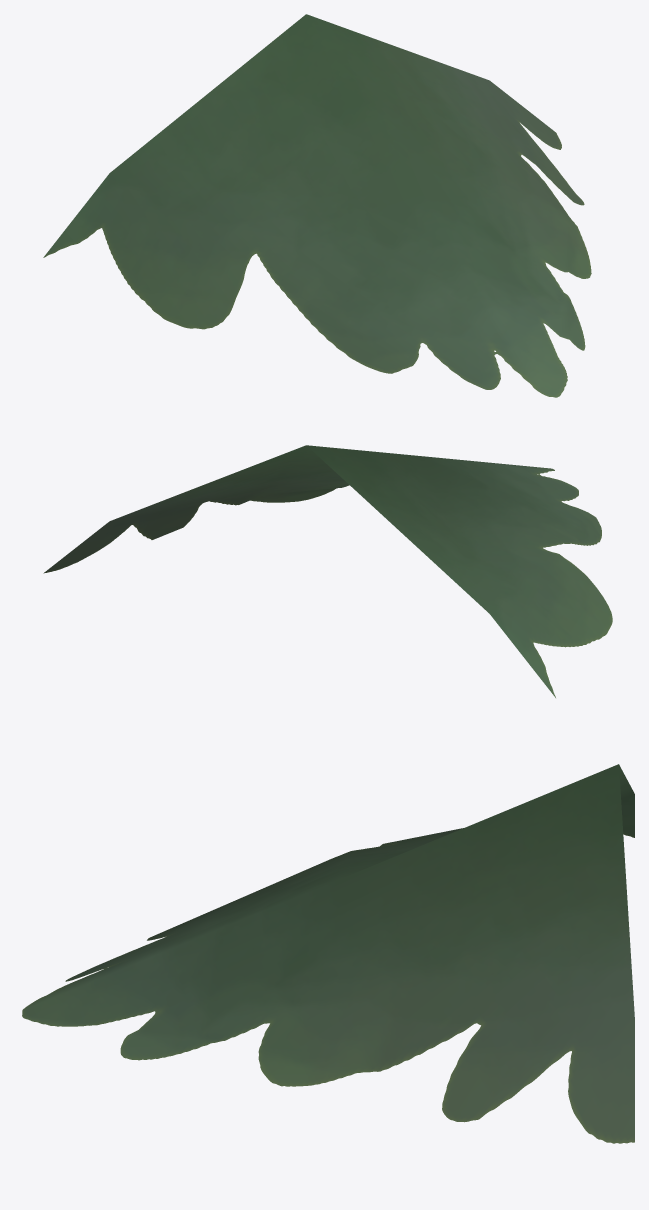
The model's file is branch B.FBX.
The picture shows the model from 3 angles, top to bottom: view 1: azimuth 30°, elevation 25°; view 2: azimuth 150°, elevation 25°; view 3: azimuth 270°, elevation 25°; orthographic projection. The views are drawn at different scales.
Visible parts, largest first — view 1: branch B; view 2: branch B; view 3: branch B.
Part boxes in pixels (box(x1,y1,x2,y2)): branch B: box(43, 14, 591, 397); branch B: box(43, 445, 612, 697); branch B: box(22, 764, 634, 1143).
Size of the model in its own units: 392 by 143 by 304.
